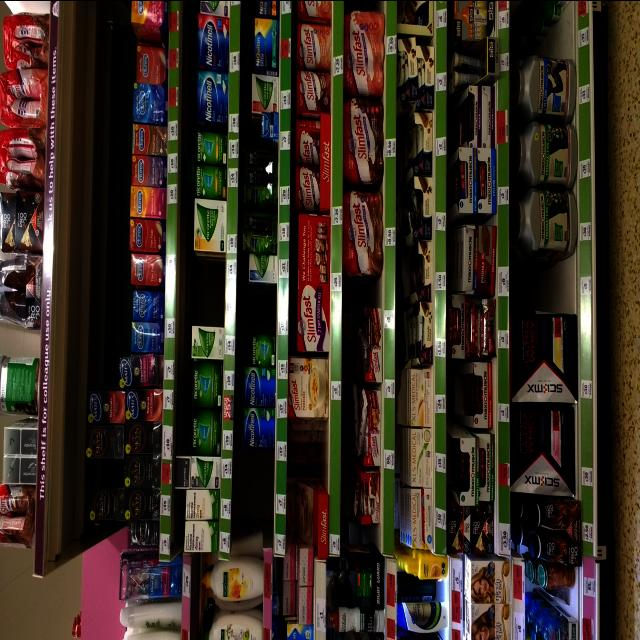empty_space: (519, 265, 570, 303), (236, 460, 266, 518), (192, 261, 224, 315), (523, 23, 571, 53), (243, 289, 273, 325)
